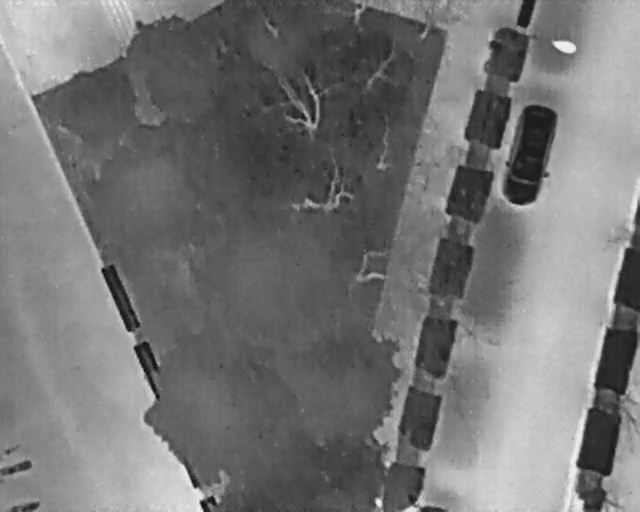Bicycle: (0, 458, 33, 477), (7, 500, 40, 510)
Car: (493, 97, 564, 213)
